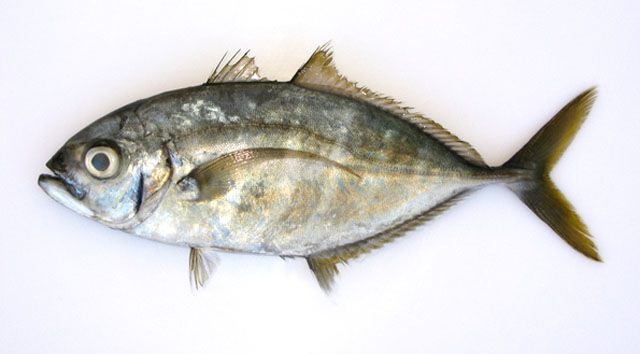fish: (37, 39, 604, 296)
